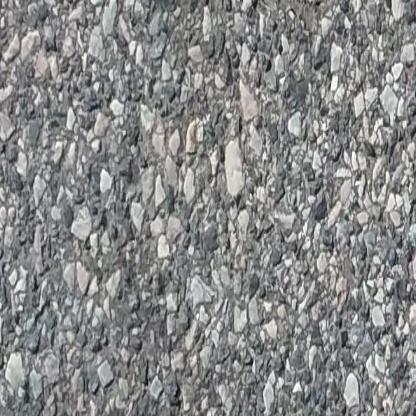Cracks: (176, 0, 346, 7)
